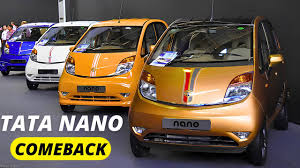Nano: (128, 16, 287, 164), (60, 19, 173, 117), (27, 19, 98, 93)
